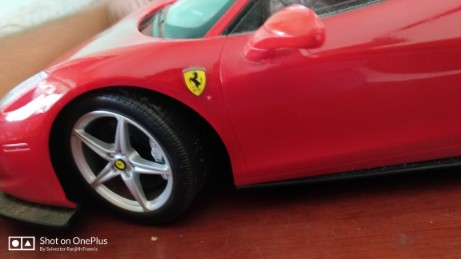unaligned_wheel: (35, 86, 252, 226)
